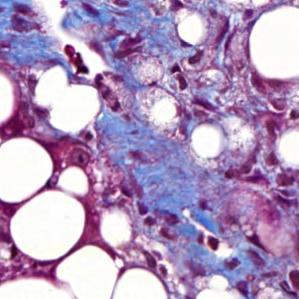steatosis: (0, 134, 54, 205)
